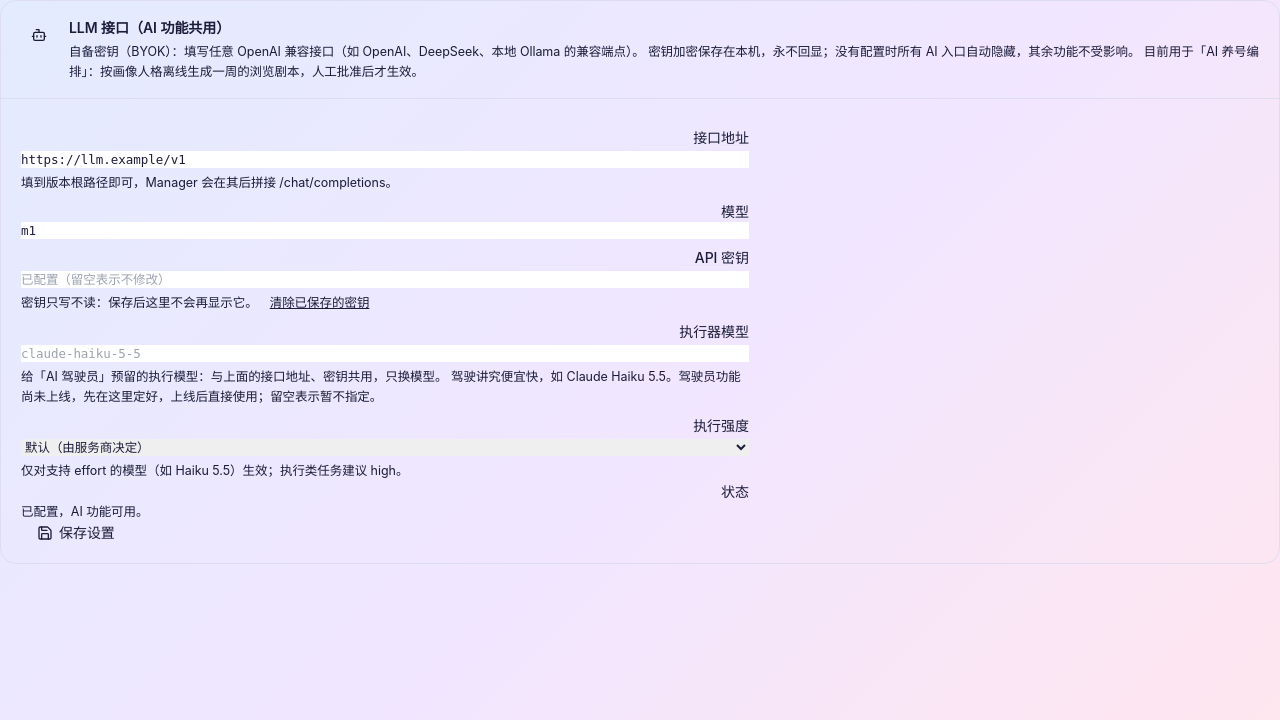
Test: LlmSettingsCard › clears a stored API key
This screenshot has width=1280, height=720.
What coordinates should you click on to do the following:
click the button "清除已保存的密钥"
I would click on:
 (320, 303)
Its box is [270, 293, 369, 313].
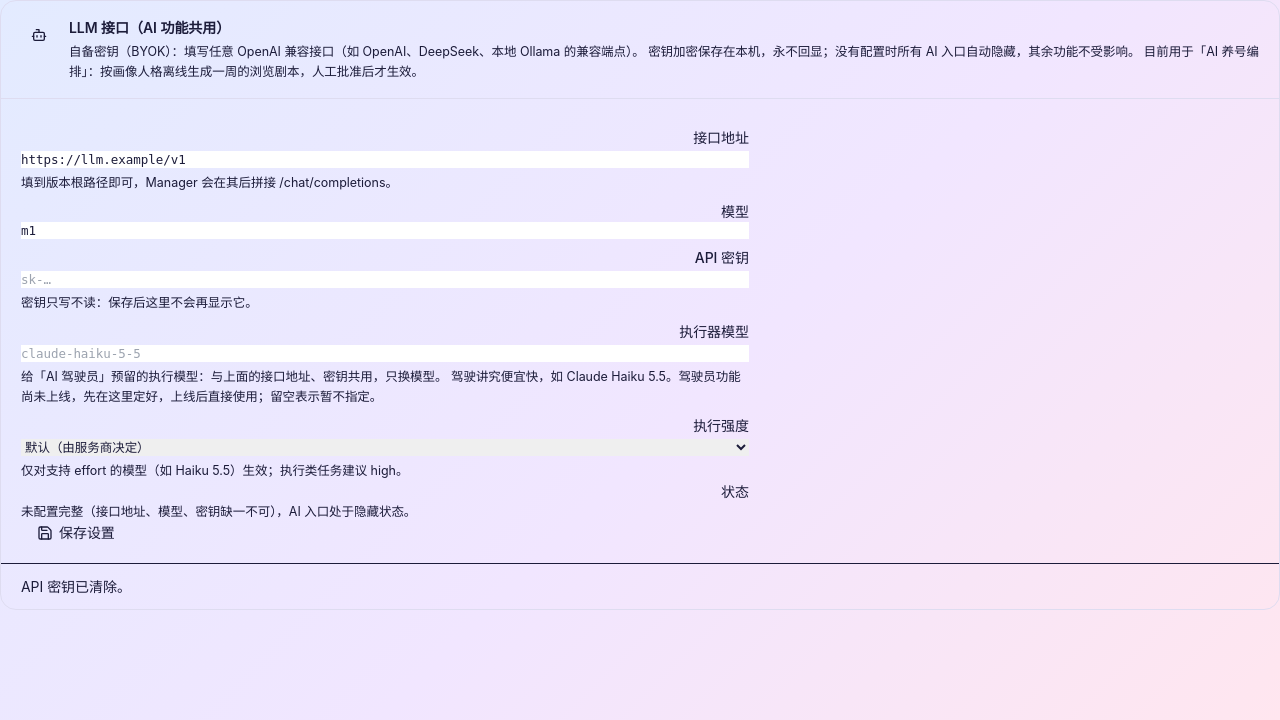
Result: the text "API 密钥已清除。" is shown at [1, 563, 1279, 609]
Result: the button "清除已保存的密钥" is gone
